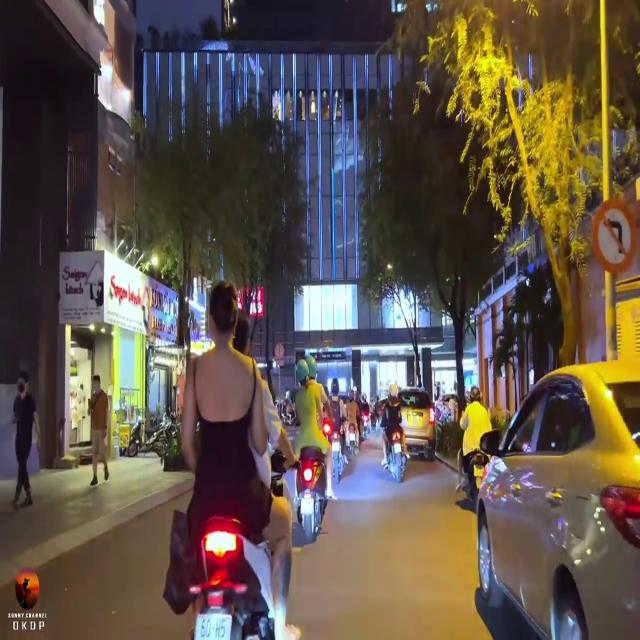bien_trang: (195, 612, 234, 640)
